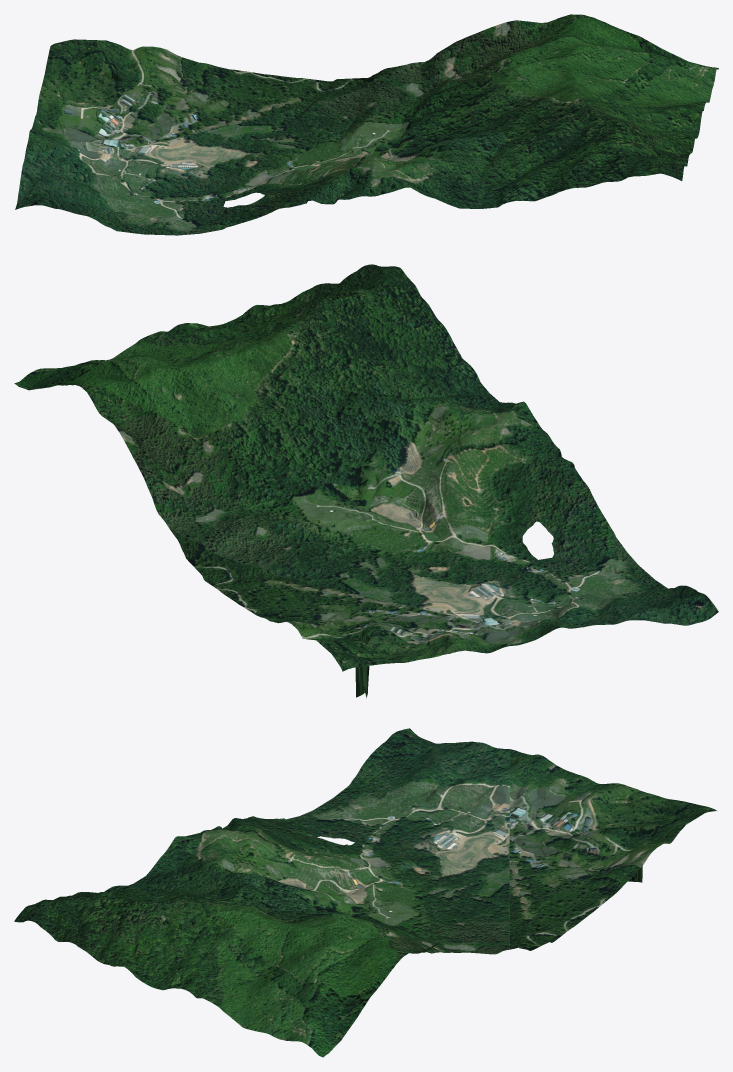
File: ground.glb
The picture shows the model from 3 angles, top to bottom: view 1: azimuth 30°, elevation 25°; view 2: azimuth 150°, elevation 25°; view 3: azimuth 270°, elevation 25°; orthographic projection. The views are drawn at different scales.
Parts seen in each view (by area): view 1: Mesh 4, Mesh 2, Mesh 1, Mesh 3; view 2: Mesh 4, Mesh 2, Mesh 1, Mesh 3; view 3: Mesh 4, Mesh 2, Mesh 1, Mesh 3.
Part boxes in pixels (x1=…): Mesh 4: x1=300, y1=14, x2=718, y2=208; Mesh 2: x1=15, y1=109, x2=478, y2=235; Mesh 1: x1=26, y1=39, x2=299, y2=152; Mesh 3: x1=259, y1=65, x2=402, y2=109; Mesh 4: x1=14, y1=264, x2=489, y2=578; Mesh 2: x1=287, y1=394, x2=718, y2=627; Mesh 1: x1=241, y1=578, x2=589, y2=698; Mesh 3: x1=169, y1=528, x2=285, y2=605; Mesh 4: x1=14, y1=862, x2=509, y2=1057; Mesh 2: x1=135, y1=728, x2=509, y2=916; Mesh 1: x1=509, y1=749, x2=716, y2=916; Mesh 3: x1=509, y1=910, x2=595, y2=950.
Bounding box in the file's own units: 1441 × 231 × 1266.
4 materials, 4 textured.
